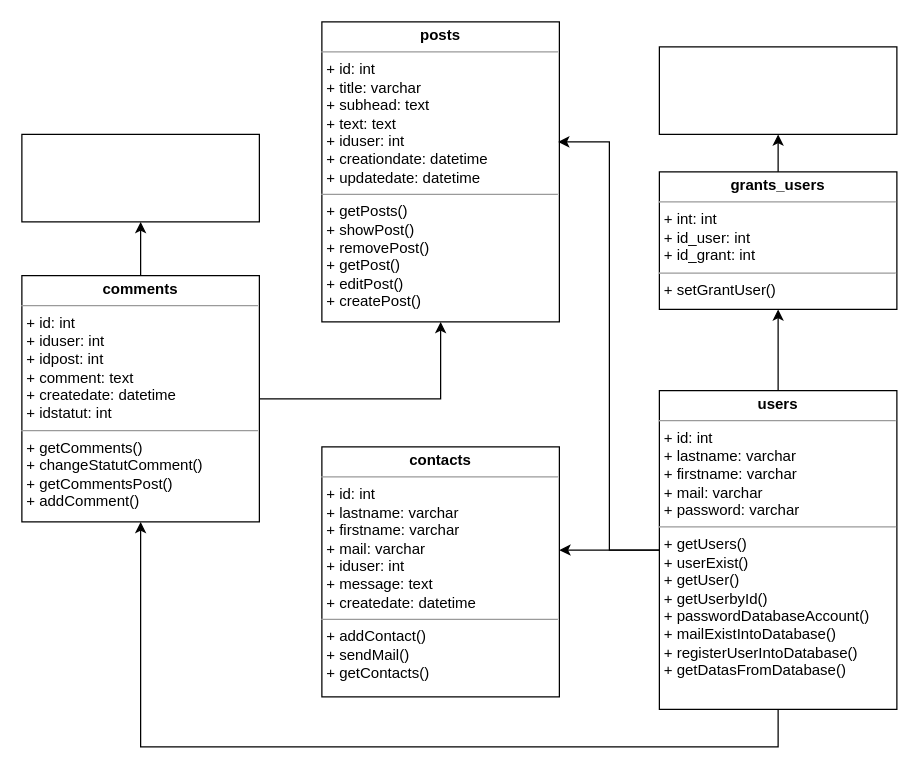
The diagram is 919 pixels wide and 779 high, and some of its shapes have lost their labels. The centre of each missing label's shape, as x and y in pixels:
"grants_names + id: int + grant_name: varchar" belongs at (x=777, y=90).
"statut_comment + id: int + name: varchar" belongs at (x=140, y=177).
